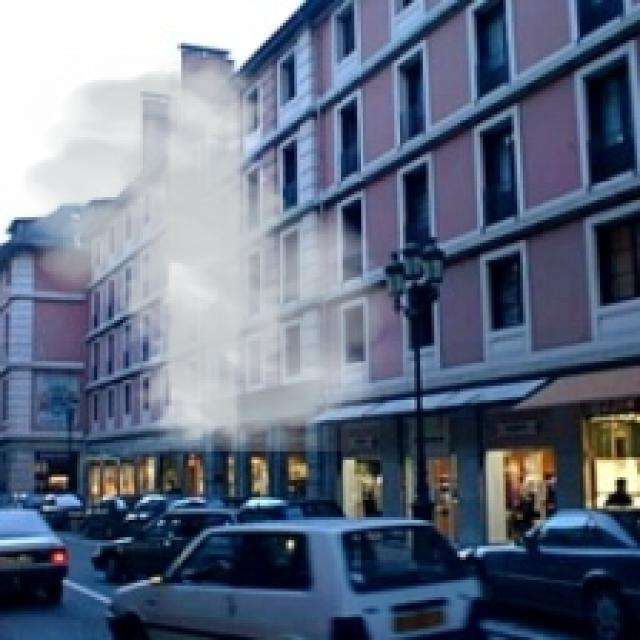smoke: (0, 54, 406, 452)
